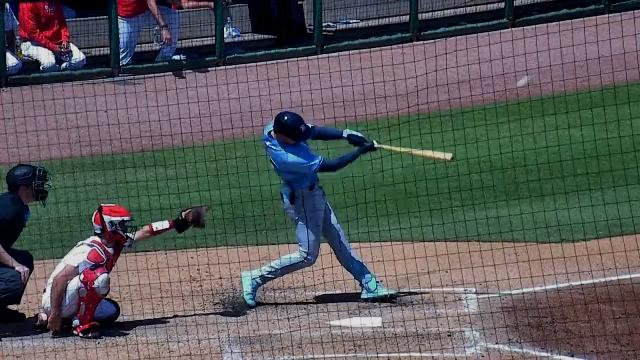bat: (377, 144, 453, 162)
